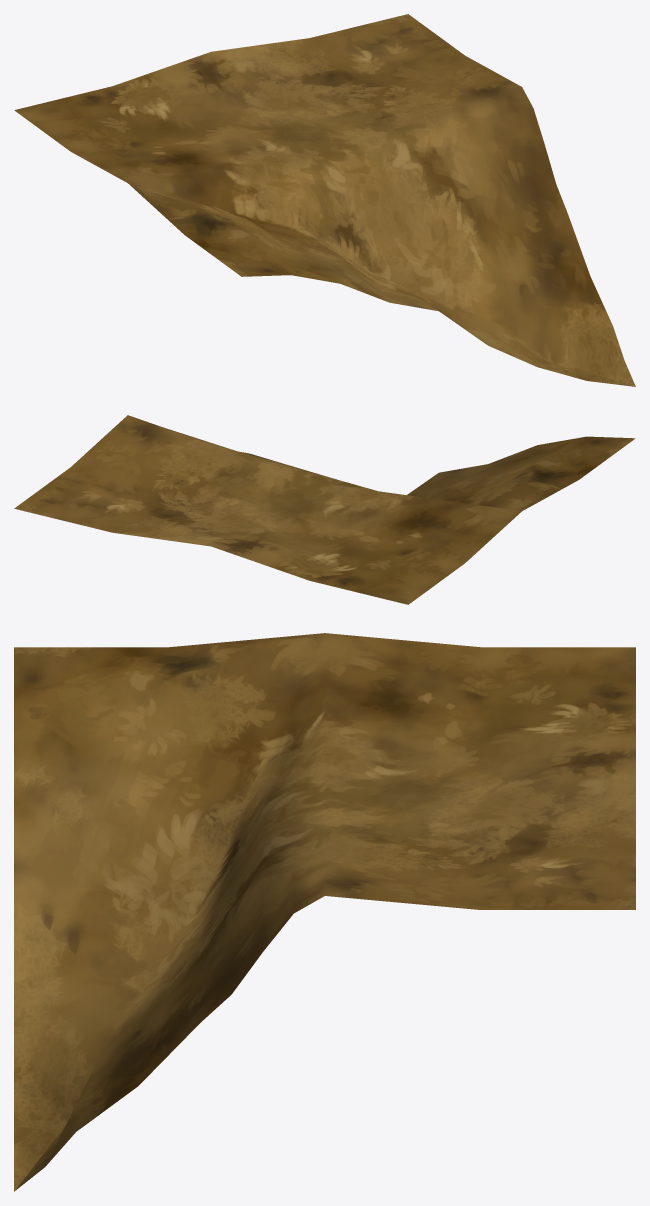
Rendered from Slope_Level_Incline_008.fbx.
3 renders of one model, top to bottom at view 1: azimuth 30°, elevation 25°; view 2: azimuth 150°, elevation 25°; view 3: azimuth 270°, elevation 25°, orthographic. The views are drawn at different scales.
Parts seen in each view (by area): view 1: Slope_Level_Incline_008; view 2: Slope_Level_Incline_008; view 3: Slope_Level_Incline_008.
Part boxes in pixels (x1,y1,x2,y2): Slope_Level_Incline_008: (14, 14, 635, 386); Slope_Level_Incline_008: (14, 415, 635, 604); Slope_Level_Incline_008: (14, 633, 635, 1191).
Bounding box in the file's own units: 10 × 5.25 × 10.
1 material, 1 textured.
